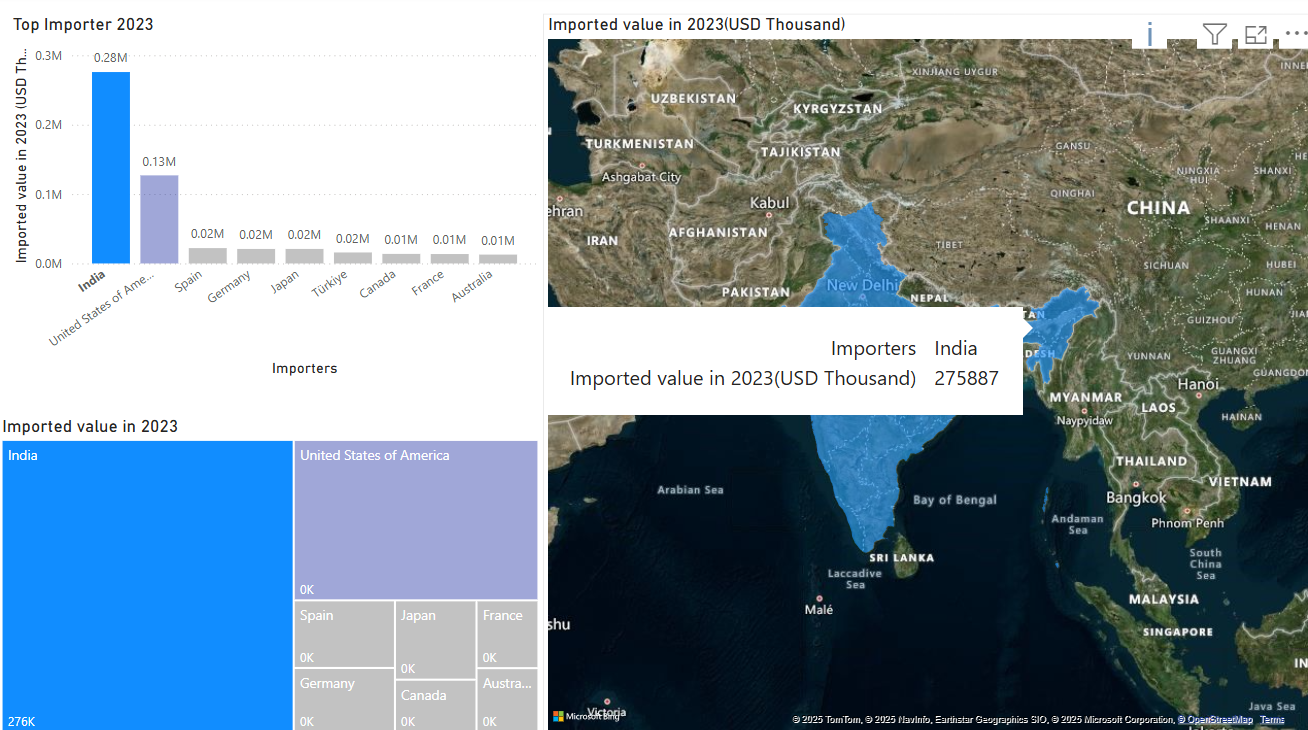

This screenshot's page, from the dashboard's own definition file:
{"tool":"powerbi","page":{"name":"6310 Import","canvas":[1280,720],"ordinal":3},"visuals":[{"type":"clusteredColumnChart","title":"Top Importer 2023","fields":{"Category":["6310 Import.Importers"],"Y":["Sum(6310 Import.Imported value in 2023)"]},"box":[10.2,18.9,519.6,356.6],"z":0},{"type":"filledMap","title":"Imported value in 2023(USD Thousand) ","fields":{"Category":["6310 Import.Importers"]},"box":[529.8,18.9,749.6,701.6],"z":1000},{"type":"treemap","title":"Imported value in 2023","fields":{"Group":["6310 Import.Importers"],"Values":["Sum(6310 Import.Imported value in 2023)"]},"box":[0,409.7,529.5,310.9],"z":2000}]}

Visuals, with their boxes in screenshot pixels (x1, y1, x2, y2), scaled from the page's 1280x720 canvas onto the 1308x730 screenshot:
"Top Importer 2023" clusteredColumnChart: 10,19,541,381
"Imported value in 2023(USD Thousand) " filledMap: 541,19,1307,729
"Imported value in 2023" treemap: 0,415,541,729
